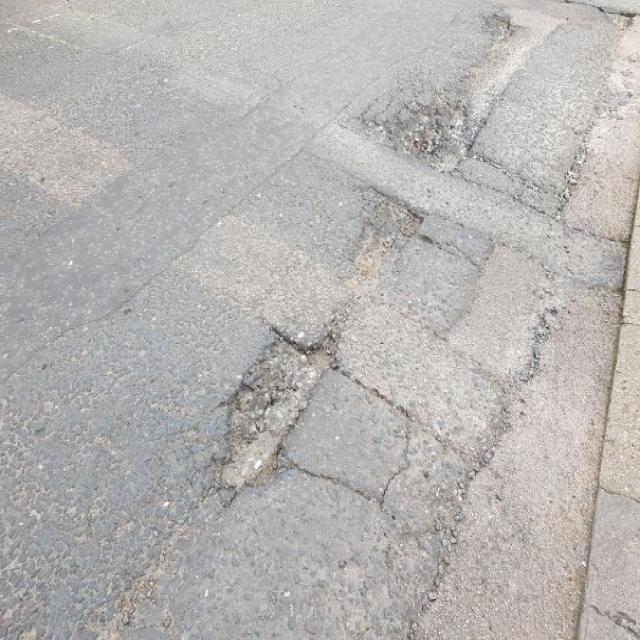Pothole: (206, 323, 349, 506), (350, 188, 431, 274), (376, 89, 469, 157), (481, 9, 527, 44), (602, 4, 640, 31)
